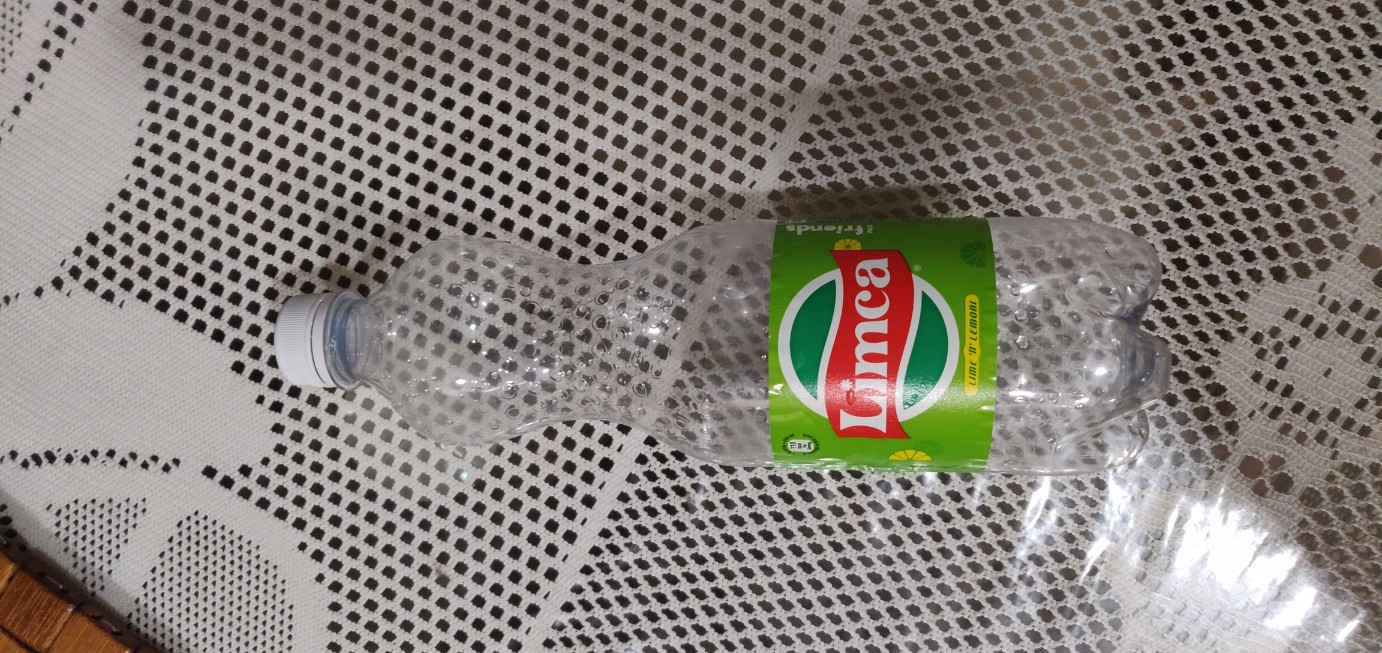Electronics: (260, 195, 1201, 492)
